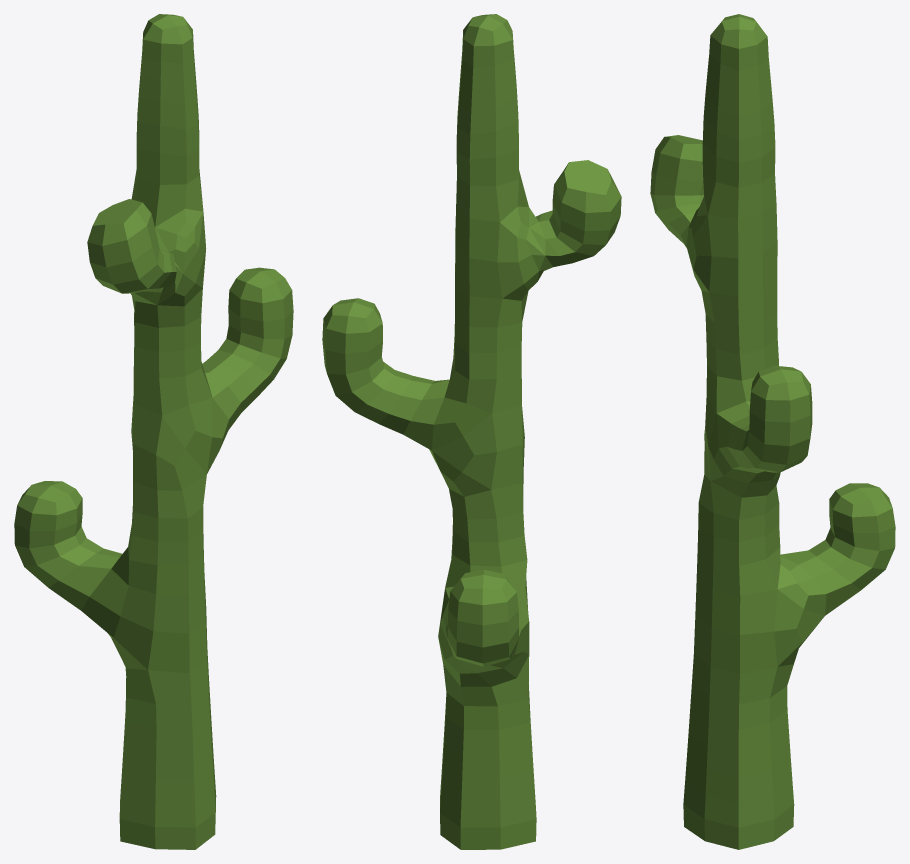
Rendered from cactus_2.glb.
3 renders of one model, left to right at view 1: azimuth 30°, elevation 25°; view 2: azimuth 150°, elevation 25°; view 3: azimuth 270°, elevation 25°, orthographic.
Parts seen in each view (by area): view 1: Plane.001; view 2: Plane.001; view 3: Plane.001.
Part boxes in pixels (left/top/right/bottom): Plane.001: left=14, top=14, right=293, bottom=849; Plane.001: left=322, top=14, right=621, bottom=849; Plane.001: left=650, top=14, right=895, bottom=849.
Bounding box in the file's own units: 0.756 × 2.44 × 0.6678.
